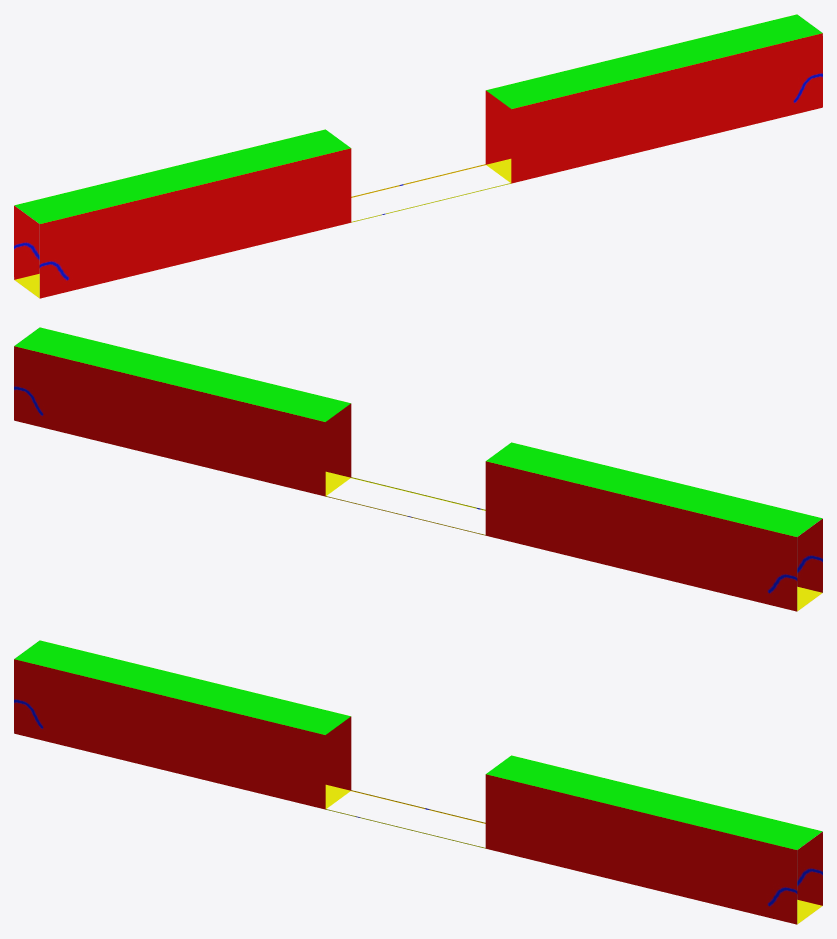
Rendered from xian_loukong.FBX.
The picture shows the model from 3 angles, top to bottom: view 1: azimuth 30°, elevation 25°; view 2: azimuth 150°, elevation 25°; view 3: azimuth 330°, elevation 25°; orthographic projection.
Visible parts, largest first — view 1: z002; view 2: z002; view 3: z002.
Part boxes in pixels (bbox=[...]): z002: bbox=[14, 14, 822, 298]; z002: bbox=[14, 327, 822, 611]; z002: bbox=[14, 640, 822, 924].
Bounding box in the file's own units: 1.76 × 0.16 × 0.1.
Materials: 1 (1 with a texture image).
